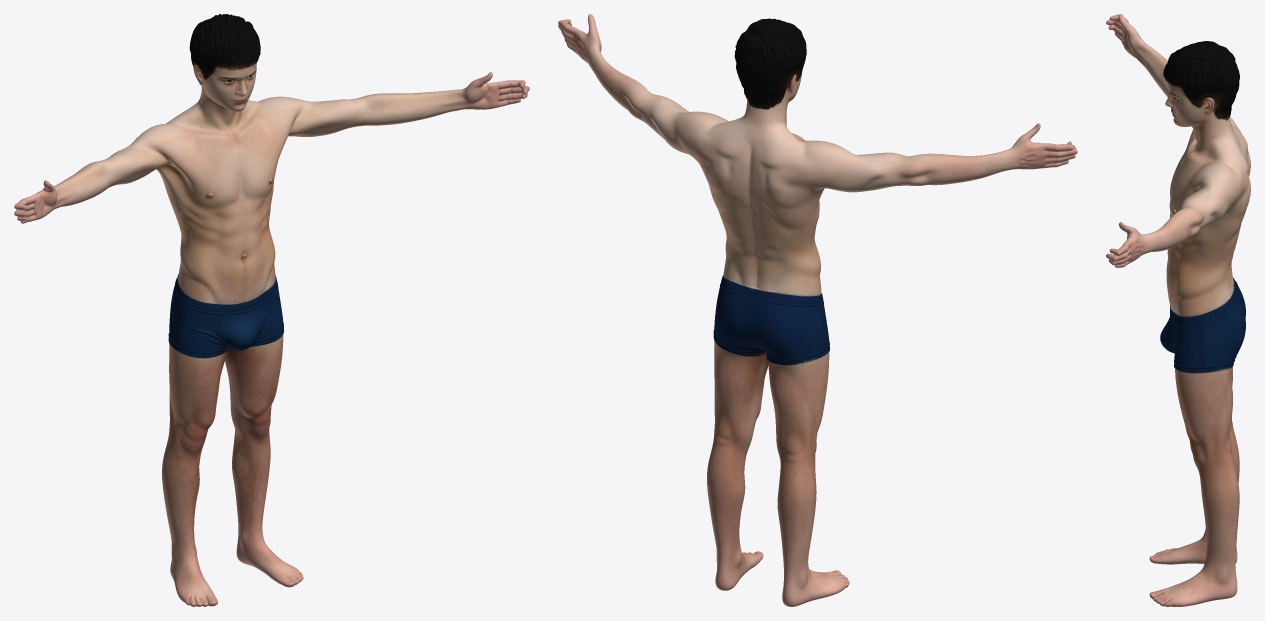
File: desktop.glb
3 renders of one model, left to right at view 1: azimuth 30°, elevation 25°; view 2: azimuth 150°, elevation 25°; view 3: azimuth 270°, elevation 25°, orthographic. The views are drawn at different scales.
Parts seen in each view (by area): view 1: Mesh_0; view 2: Mesh_0; view 3: Mesh_0.
Part boxes in pixels (left/top/right/bottom): Mesh_0: left=14, top=14, right=529, bottom=606; Mesh_0: left=558, top=14, right=1077, bottom=606; Mesh_0: left=1106, top=14, right=1250, bottom=606.
Size of the model in its own units: 1.81 by 1.88 by 0.4599.
Materials: 1 (1 with a texture image).
